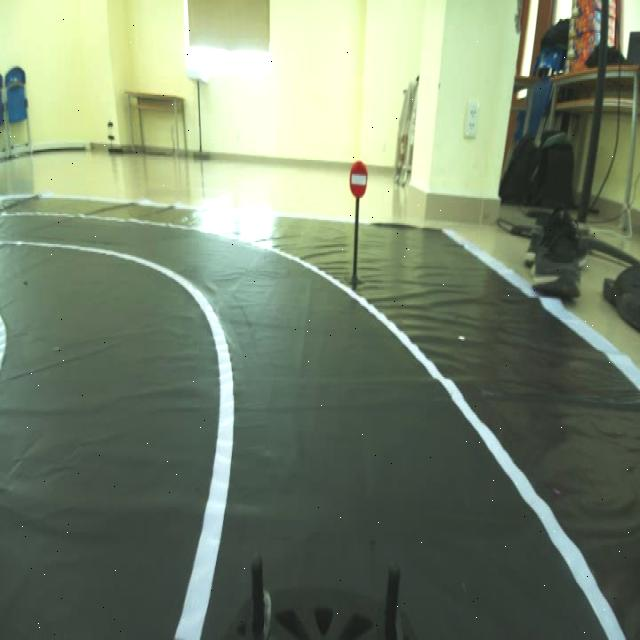no_entry: (344, 138, 371, 200)
